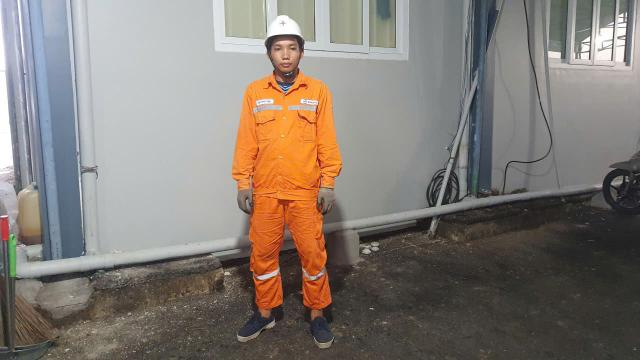gloves: (312, 179, 338, 221), (235, 183, 260, 222)
helmet: (261, 11, 313, 51)
shoes: (226, 295, 283, 347), (302, 307, 339, 360)
